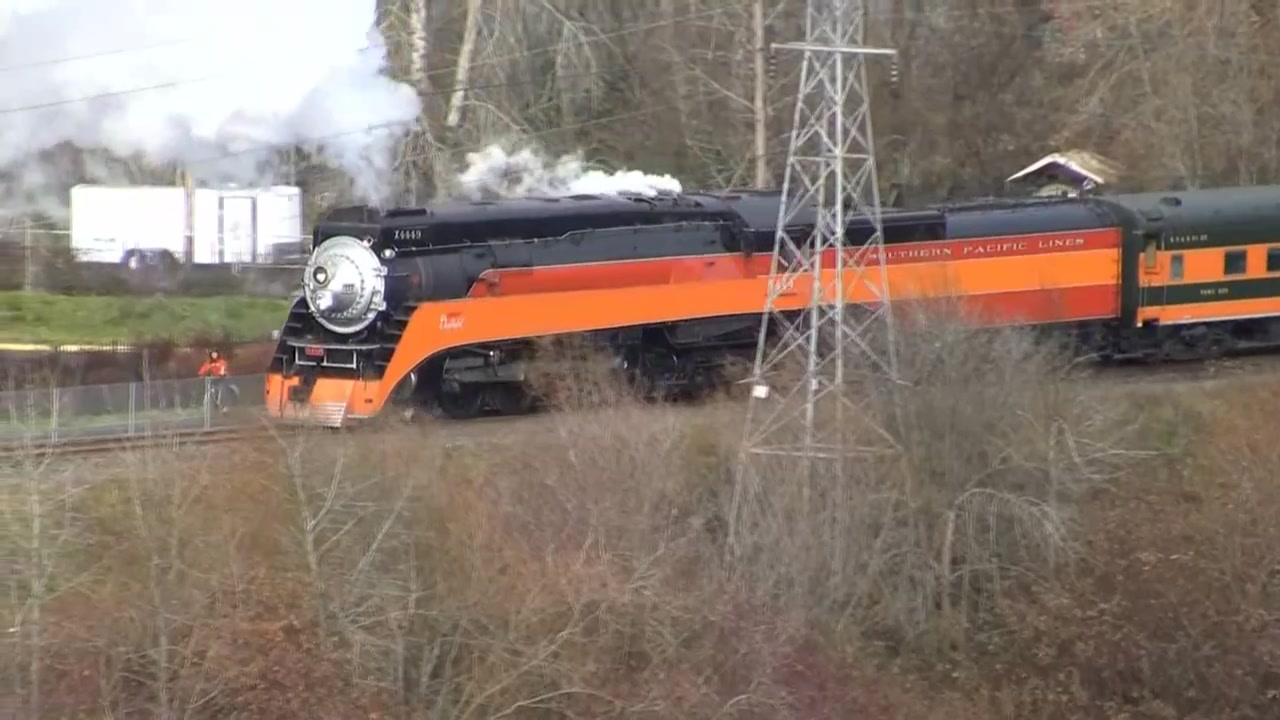train: (261, 188, 1280, 434)
